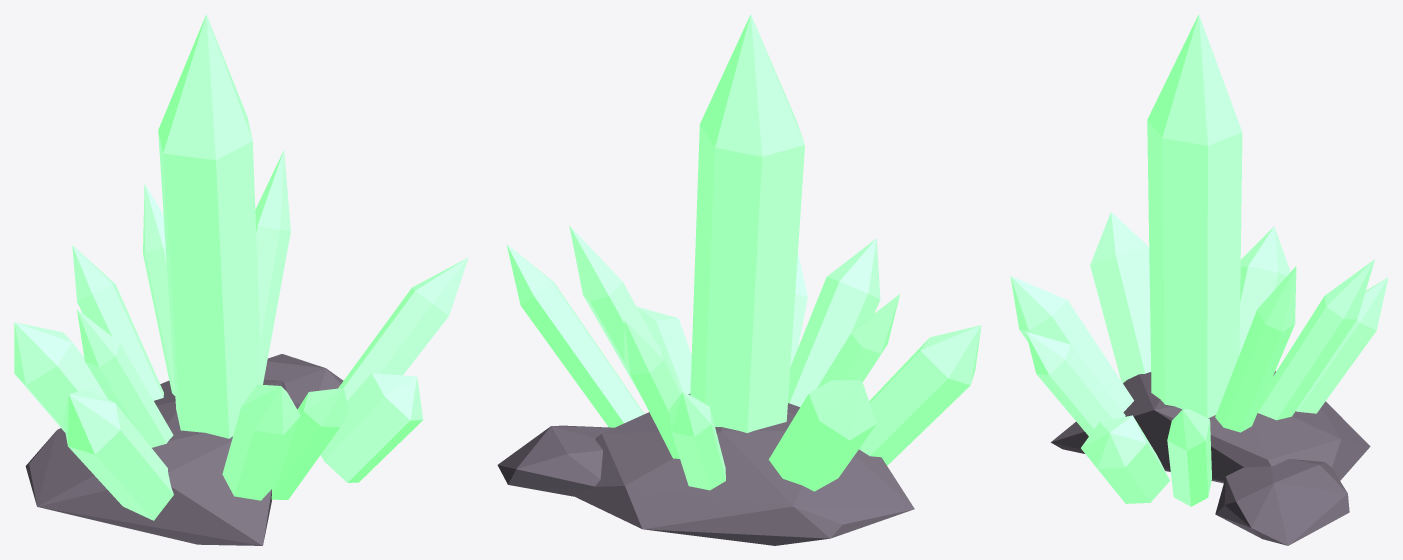
The model's file is Crystal_ClusterLarge_Green.glb.
3 views of the same model, side by side, from view 1: azimuth 30°, elevation 25°; view 2: azimuth 150°, elevation 25°; view 3: azimuth 270°, elevation 25° (orthographic). The views are drawn at different scales.
Visible parts, largest first — view 1: Crystal_ClusterLarge_green; view 2: Crystal_ClusterLarge_green; view 3: Crystal_ClusterLarge_green.
Boxes of the visible parts, x1,y1,x2,y2 form: Crystal_ClusterLarge_green: (14,14,468,545); Crystal_ClusterLarge_green: (497,14,981,545); Crystal_ClusterLarge_green: (1010,14,1388,545).
Size of the model in its own units: 1.33 by 1.37 by 1.06.
